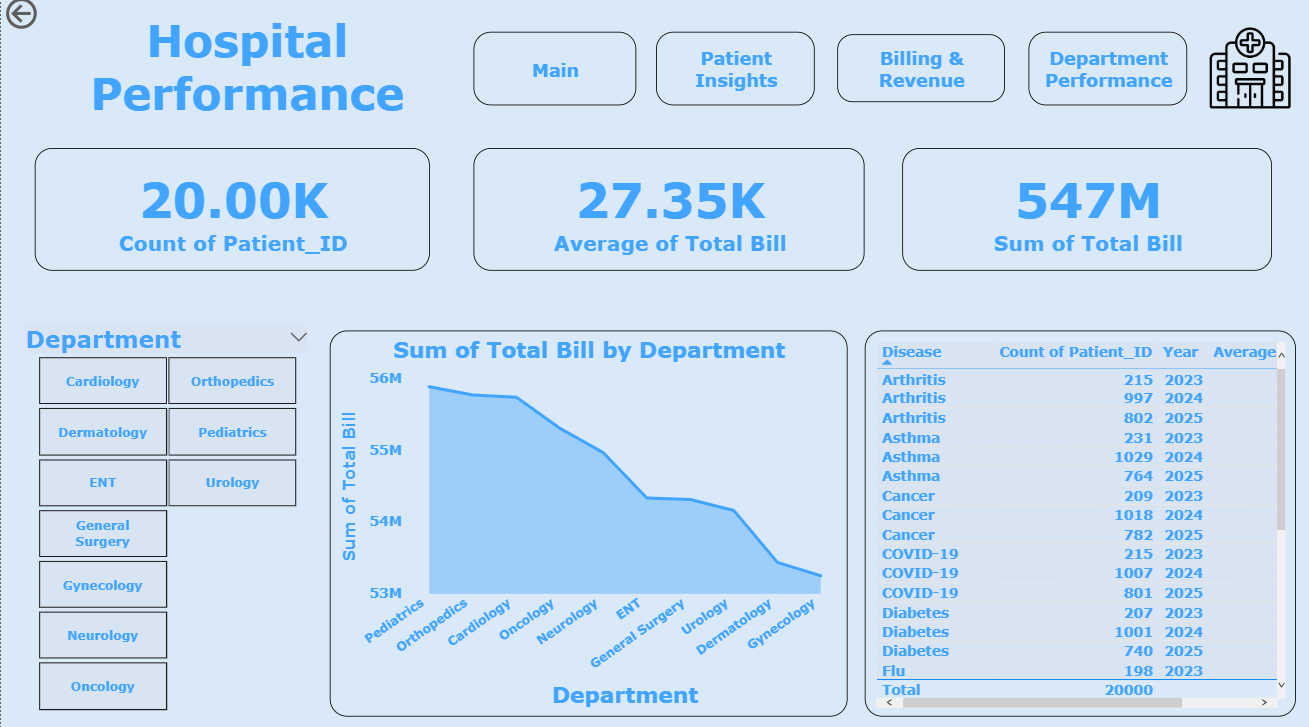

Layout of this report page (visuals, bound fields, positions):
{"tool":"powerbi","page":{"name":"Hospital Overview","canvas":[1280,720],"ordinal":0},"visuals":[{"type":"card","fields":{"Values":["CountNonNull(Sheet1.Patient_ID)"]},"box":[33,151.6,386.3,119.8],"z":0},{"type":"card","fields":{"Values":["Avg(Sheet1.Total Bill)"]},"box":[462.1,151.6,382.6,119.8],"z":1000},{"type":"areaChart","fields":{"Category":["Sheet1.Department"],"Y":["Sum(Sheet1.Total Bill)"]},"box":[321.5,330.1,506.1,377.7],"z":2000},{"type":"card","fields":{"Values":["Sum(Sheet1.Total Bill)"]},"box":[881.4,151.6,361.8,119.8],"z":3000},{"type":"slicer","fields":{"Values":["Sheet1.Department"]},"box":[11,320.3,301.9,387.5],"z":4000},{"type":"tableEx","fields":{"Values":["Sheet1.Disease","CountNonNull(Sheet1.Patient_ID)","Sheet1.Admission_Date.Variation.Date Hierarchy.Year","Avg(Sheet1.Total Bill)"]},"box":[844.7,330.1,421.7,377.7],"z":5000},{"type":"actionButton","box":[0,0,100,40],"z":6000},{"type":"textbox","box":[19.6,14.7,442.5,117.4],"z":7000},{"type":"image","box":[1177.2,28.1,89.2,90.5],"z":8000},{"type":"actionButton","title":"department Performance","box":[817.8,40.3,163.8,66],"z":9000},{"type":"actionButton","title":"department Performance","box":[1004.8,37.9,155.2,72.1],"z":10000},{"type":"actionButton","title":"department Performance","box":[640.5,37.9,155.2,72.1],"z":11000},{"type":"actionButton","title":"department Performance","box":[462.1,37.9,158.9,72.1],"z":12000}]}

Visuals, with their boxes in screenshot pixels (x1, y1, x2, y2), scaled from the page's 1280x720 canvas onto the 1309x727 screenshot:
card - CountNonNull(Sheet1.Patient_ID): x1=34 y1=153 x2=429 y2=274
card - Avg(Sheet1.Total Bill): x1=473 y1=153 x2=864 y2=274
areaChart - Sheet1.Department x Sum(Sheet1.Total Bill): x1=329 y1=333 x2=846 y2=715
card - Sum(Sheet1.Total Bill): x1=901 y1=153 x2=1271 y2=274
slicer - Sheet1.Department: x1=11 y1=323 x2=320 y2=715
tableEx - Sheet1.Disease x CountNonNull(Sheet1.Patient_ID): x1=864 y1=333 x2=1295 y2=715
actionButton: x1=0 y1=0 x2=102 y2=40
textbox: x1=20 y1=15 x2=473 y2=133
image: x1=1204 y1=28 x2=1295 y2=120
"department Performance" actionButton: x1=836 y1=41 x2=1004 y2=107
"department Performance" actionButton: x1=1028 y1=38 x2=1186 y2=111
"department Performance" actionButton: x1=655 y1=38 x2=814 y2=111
"department Performance" actionButton: x1=473 y1=38 x2=635 y2=111
